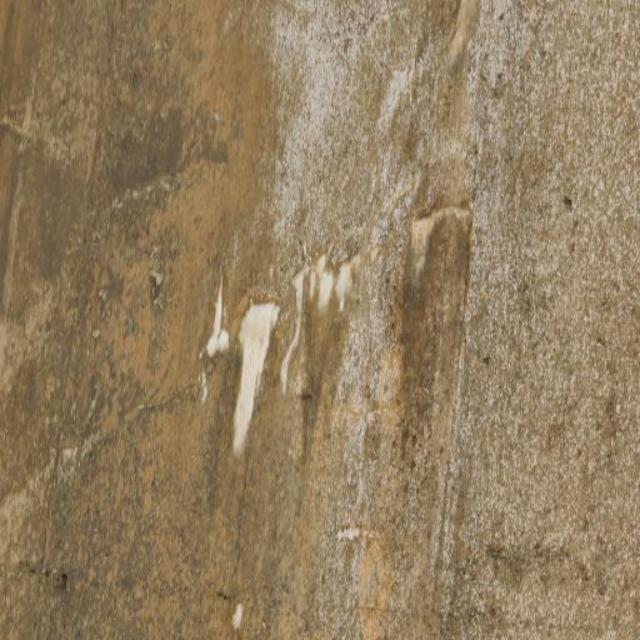D01: (238, 302, 281, 453)
